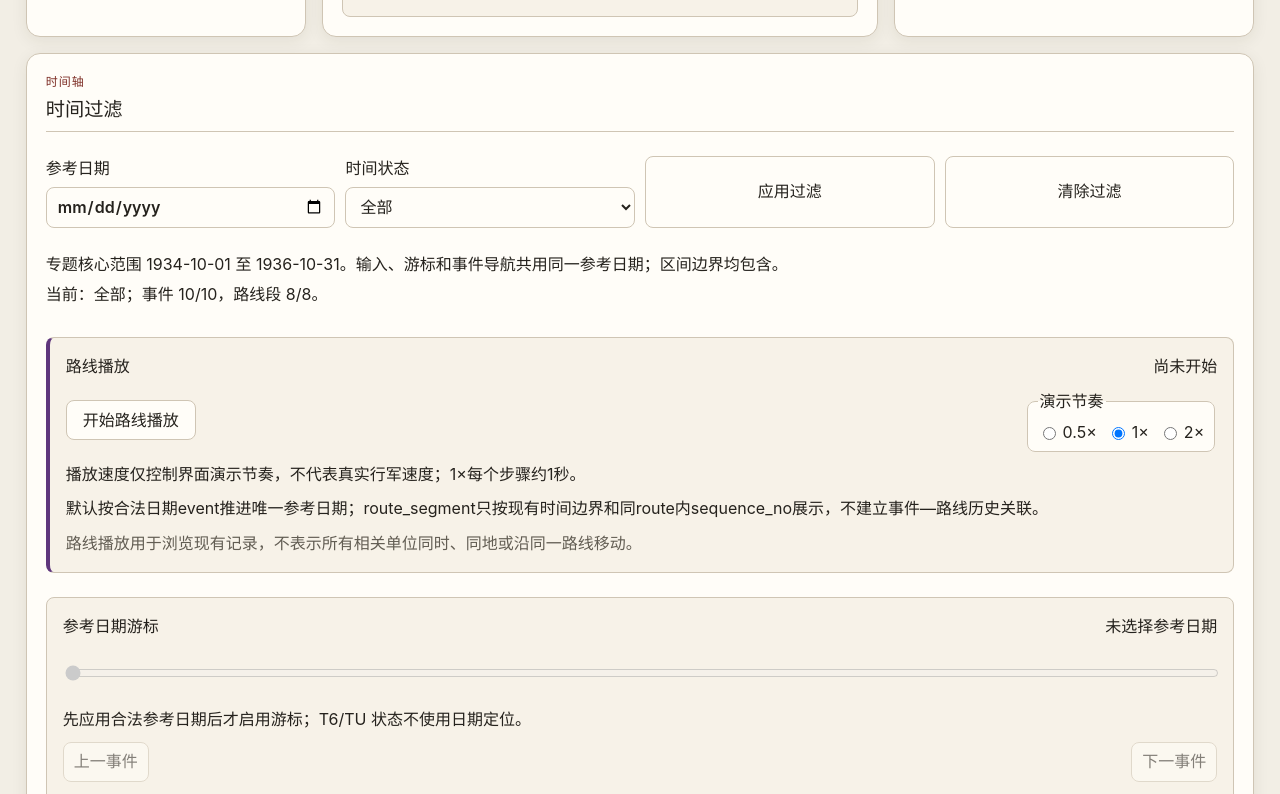
Test case: application layout and map integration › interrupts active playback when the user changes the date
(page scrolled)
Click the button "开始路线播放" at (131, 420), box [66,400,196,440]
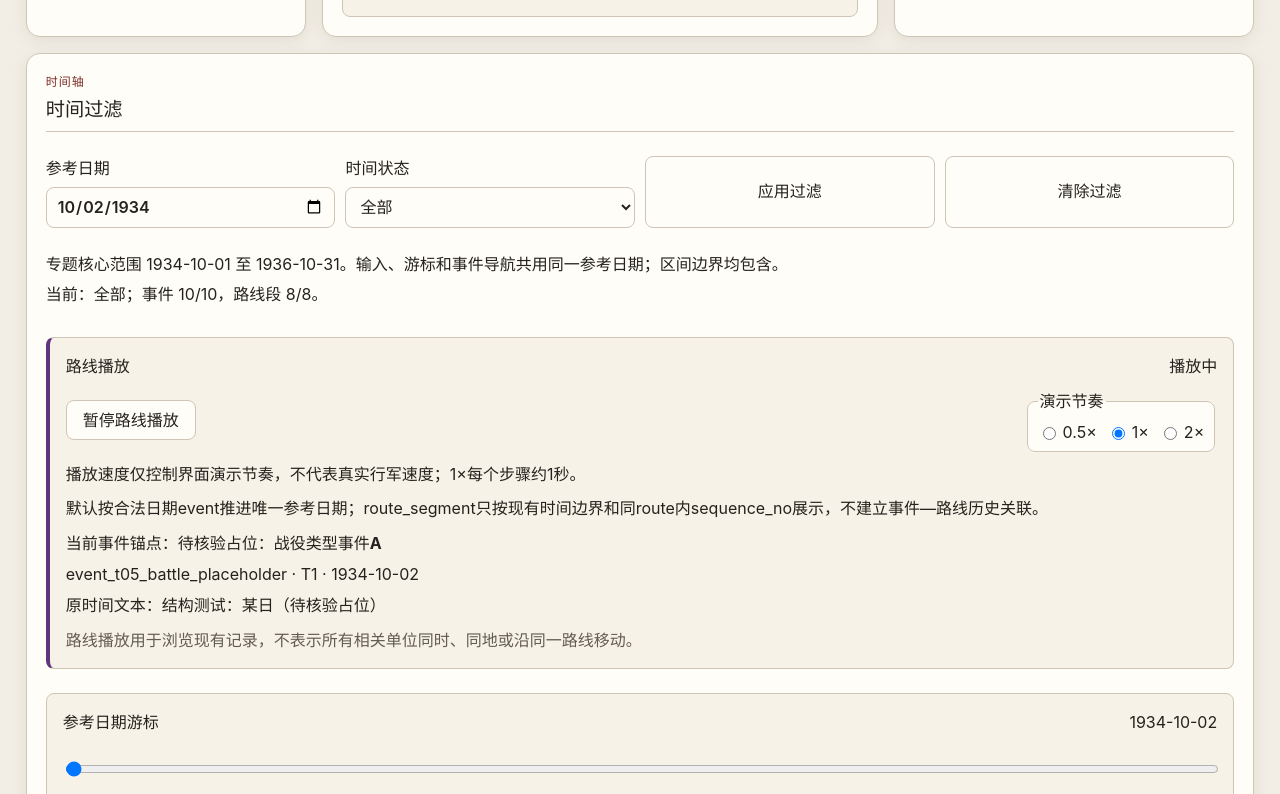
Type "1935-01-15" into the date field labelled "参考日期" at (191, 207), box [46,187,335,228]
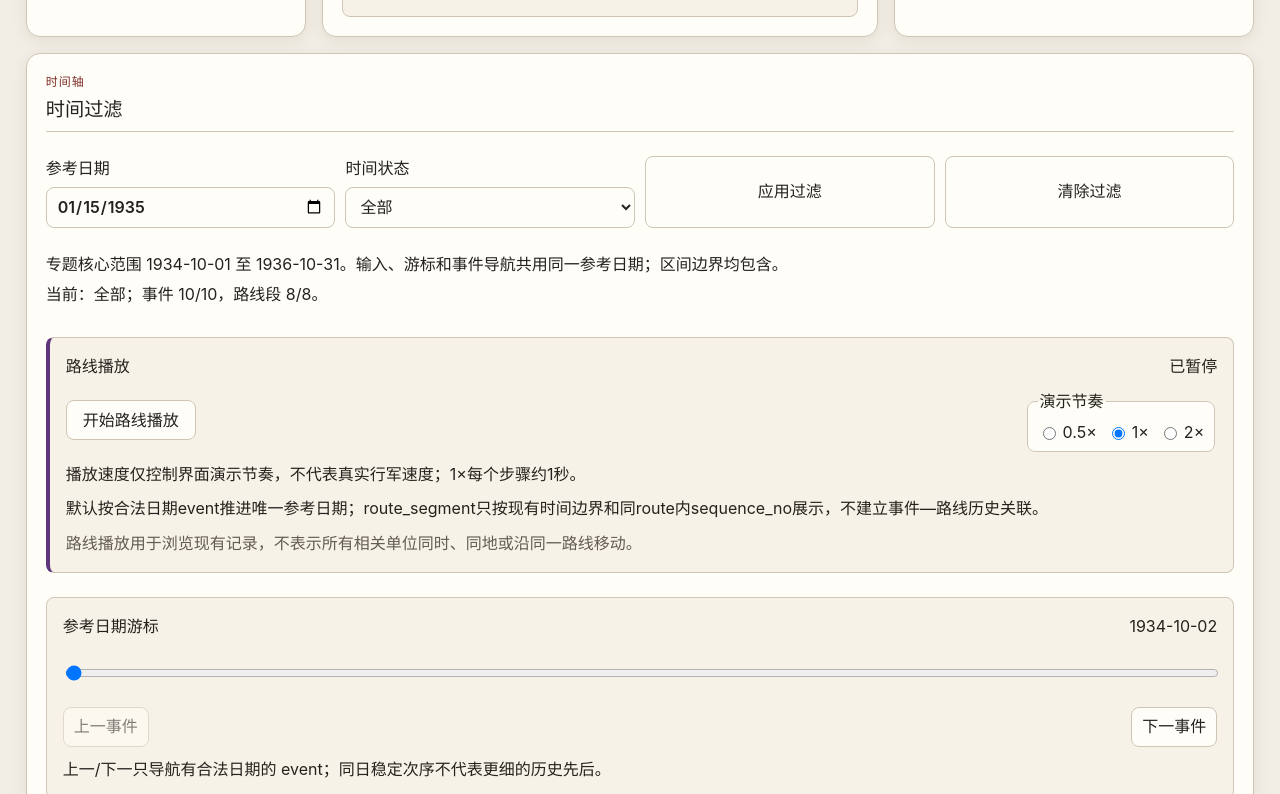
Check: the button "开始路线播放" is shown, box [66,400,196,440]
Check: the text "已暂停" is shown, box [1169,354,1217,379]
